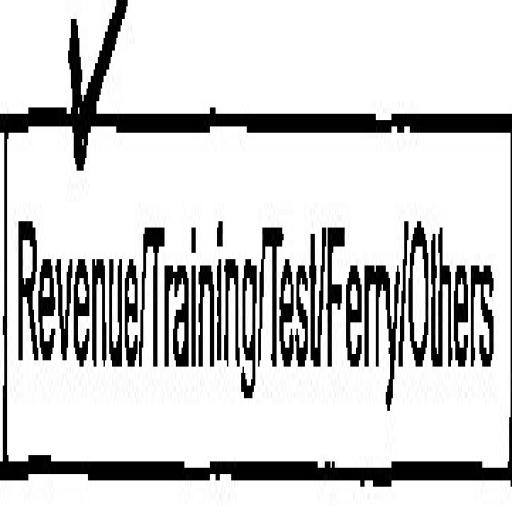check: (4, 0, 141, 493)
